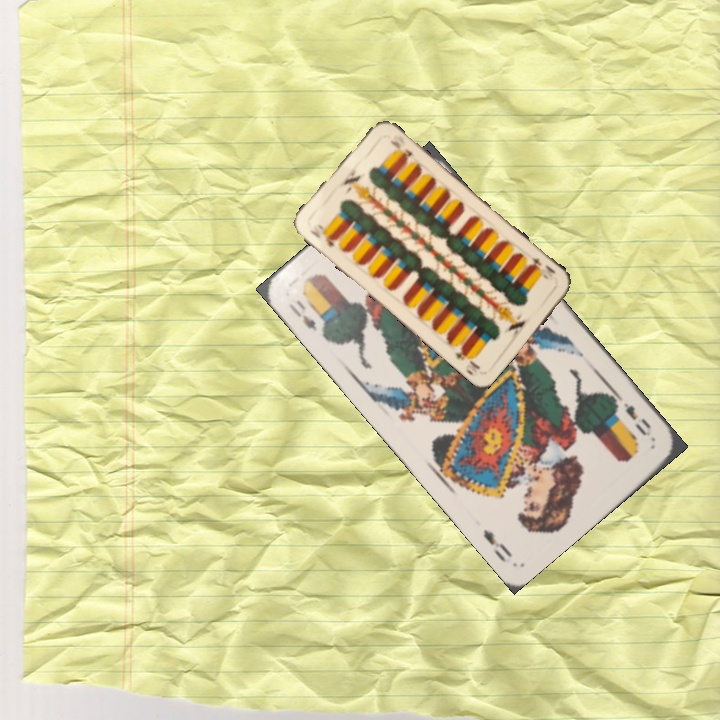E10: (526, 253, 558, 282), (306, 225, 338, 250)
EO: (611, 397, 655, 439), (284, 295, 320, 334)
